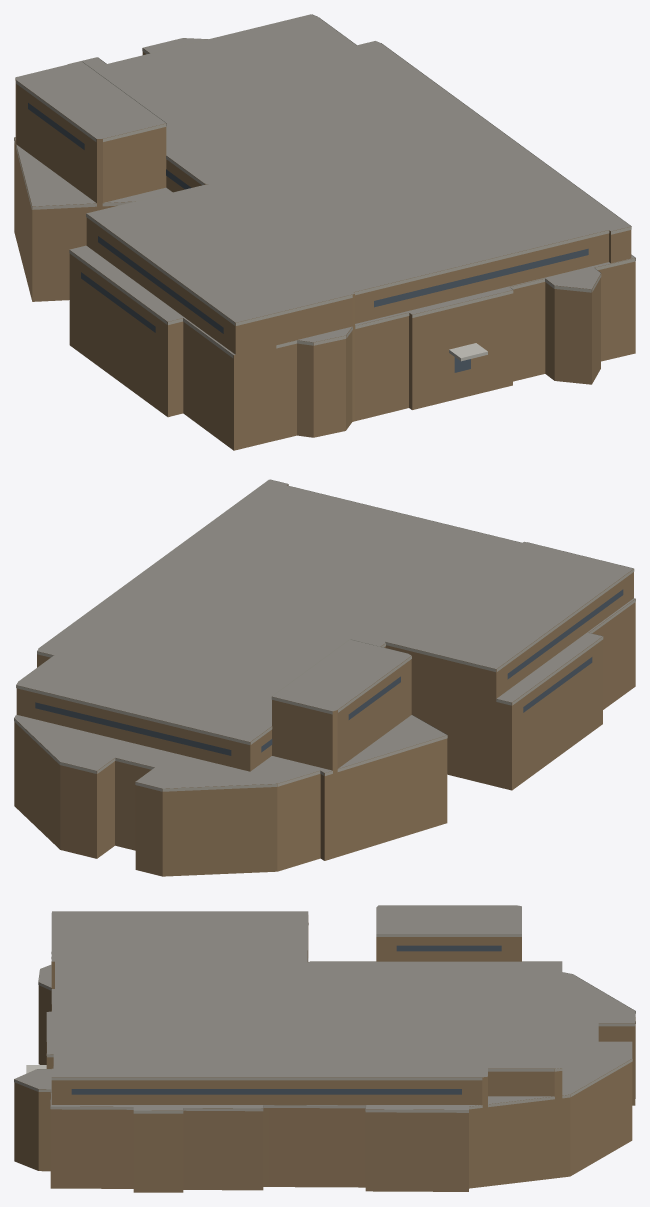
The model's file is pavilion-in-the-park.glb.
3 views of the same model, one above another, from view 1: azimuth 30°, elevation 25°; view 2: azimuth 150°, elevation 25°; view 3: azimuth 270°, elevation 25° (orthographic). The views are drawn at different scales.
Visible parts, largest first — view 1: pavilion_in_the_park; view 2: pavilion_in_the_park; view 3: pavilion_in_the_park.
Boxes of the visible parts, x1,y1,x2,y2 form: pavilion_in_the_park: [14, 14, 635, 450]; pavilion_in_the_park: [14, 479, 635, 876]; pavilion_in_the_park: [14, 905, 635, 1192].
Size of the model in its own units: 62.65 by 22.38 by 91.91.
